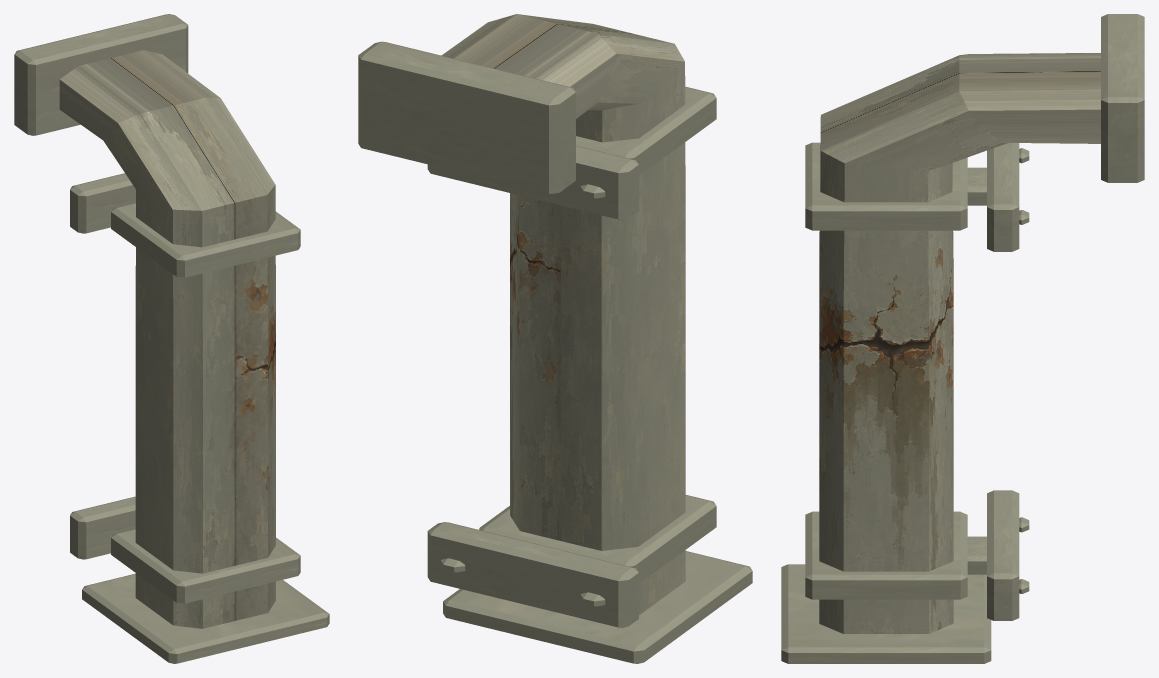
Rendered from SM_BunkerPipe.fbx.
3 renders of one model, left to right at view 1: azimuth 30°, elevation 25°; view 2: azimuth 150°, elevation 25°; view 3: azimuth 270°, elevation 25°, orthographic. The views are drawn at different scales.
Parts seen in each view (by area): view 1: SM_BunkerPipe; view 2: SM_BunkerPipe; view 3: SM_BunkerPipe.
Part boxes in pixels (x1,y1,x2,y2): SM_BunkerPipe: [14, 14, 329, 663]; SM_BunkerPipe: [358, 14, 752, 663]; SM_BunkerPipe: [781, 14, 1144, 663].
Size of the model in its own units: 36 by 62.25 by 107.
1 material, 1 textured.
